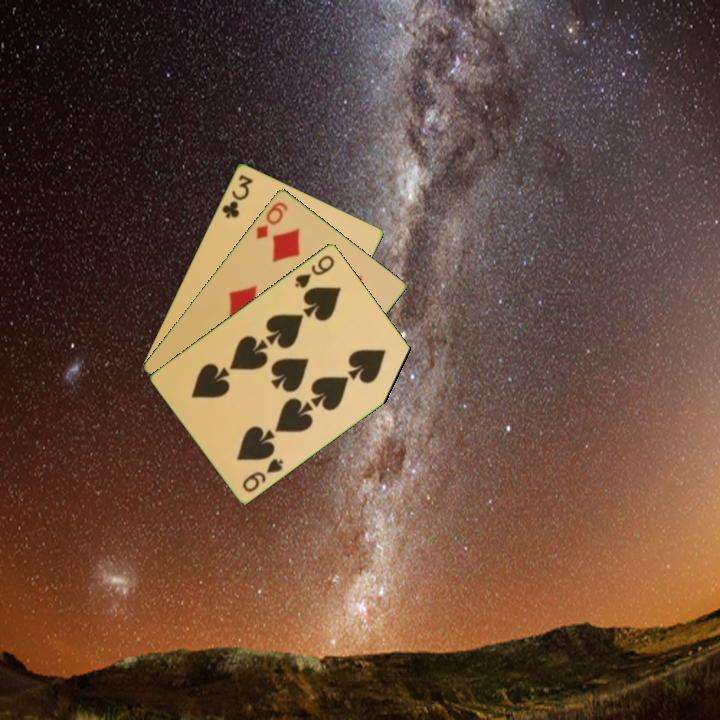3c: (218, 171, 256, 221)
6d: (252, 198, 291, 242)
9s: (239, 454, 286, 495), (291, 251, 337, 291)
